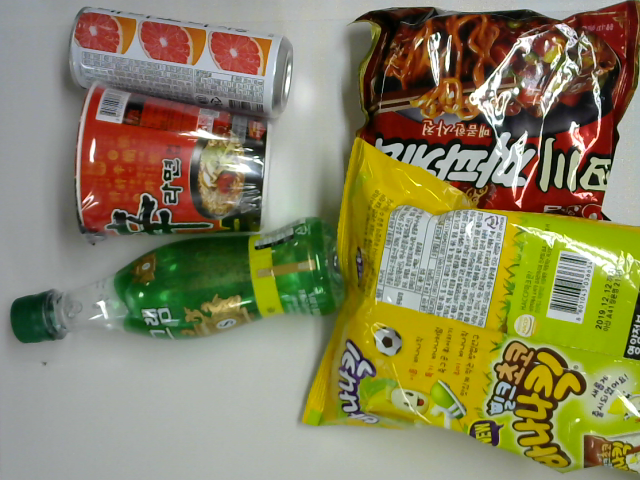Banana_Kick: (294, 134, 637, 480)
Demisoda_Grapefruit_Can_250ml: (56, 2, 292, 128)
Seagram_Lemon_Carbonated_Water: (8, 213, 352, 351)
Sichuan_Chapaghetti: (345, 4, 640, 224)
Sinramen_small: (70, 77, 272, 252)
